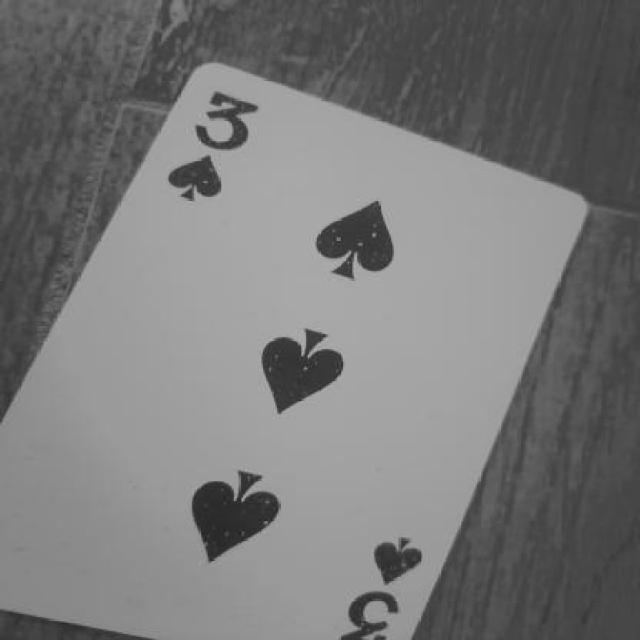3S: (150, 73, 284, 207), (331, 520, 438, 640)
